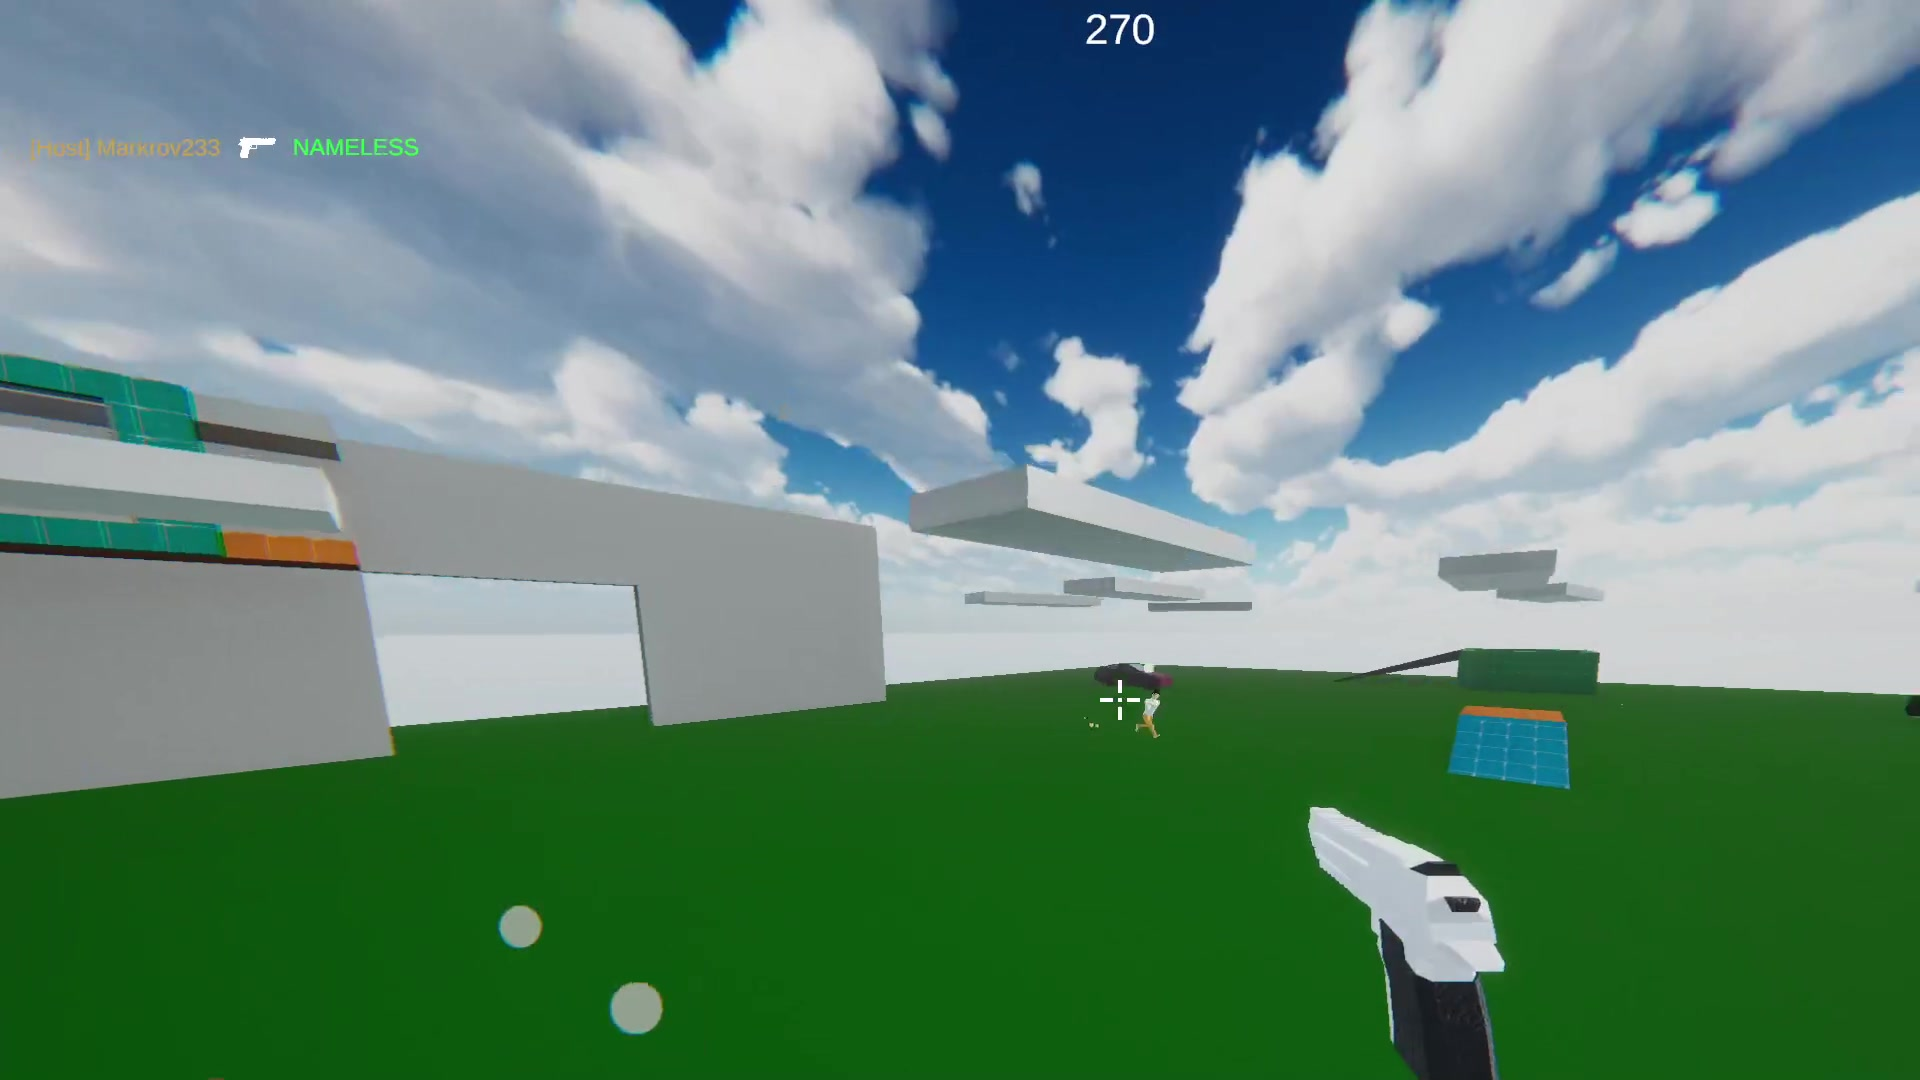human: (1142, 683, 1162, 739)
